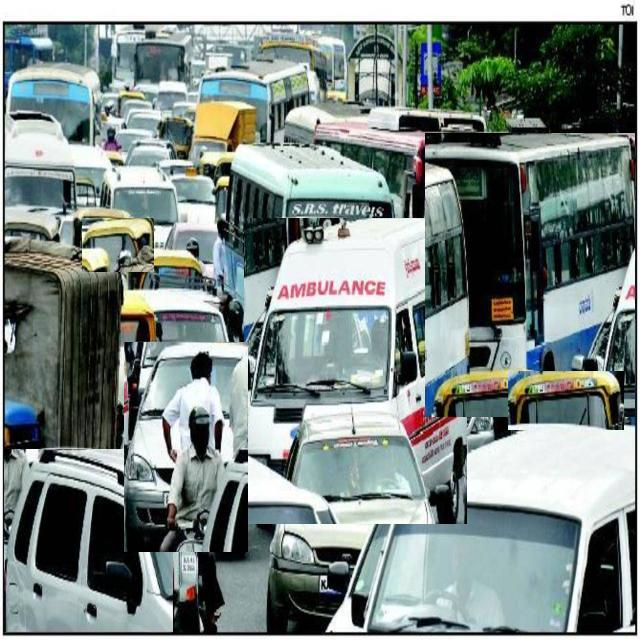autorickshaw: (509, 371, 624, 430), (82, 218, 154, 272), (126, 249, 202, 289)
bus: (425, 133, 635, 417), (225, 147, 395, 333), (314, 107, 484, 241)
car: (328, 424, 635, 636), (266, 407, 425, 633), (5, 449, 173, 632), (125, 342, 248, 552), (135, 289, 234, 393), (101, 167, 179, 247)
emergency: (245, 218, 467, 524)
motorcycle: (150, 407, 224, 633)
